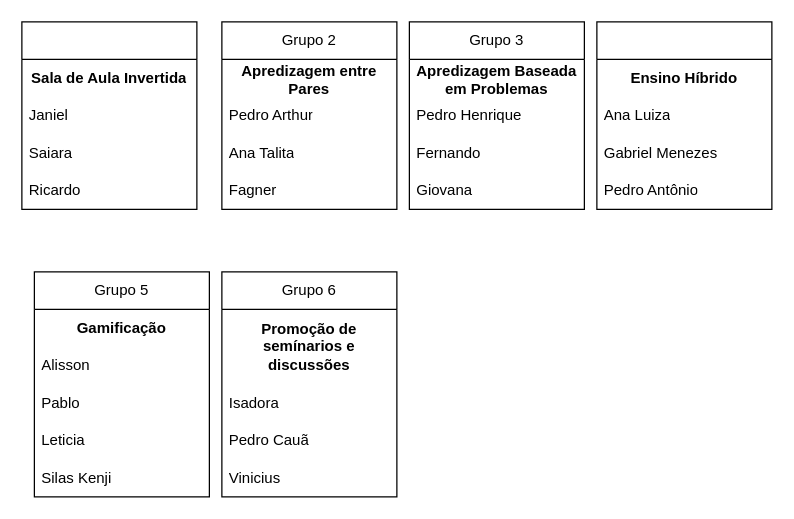
Some shapes in this 794 by 519 pixel diagram are drawn without their labels. Here are the shapes that lost their labels. From the top down, the box of each, then its label:
(21, 21, 197, 209): Grupo 1
(596, 21, 772, 209): Grupo 4
